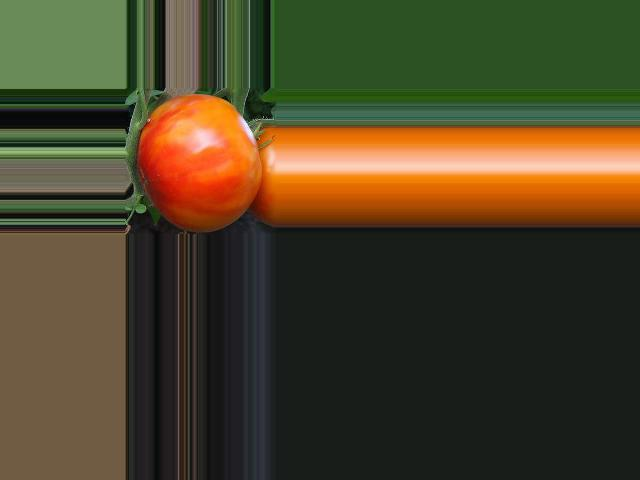tomato: (138, 94, 260, 232)
